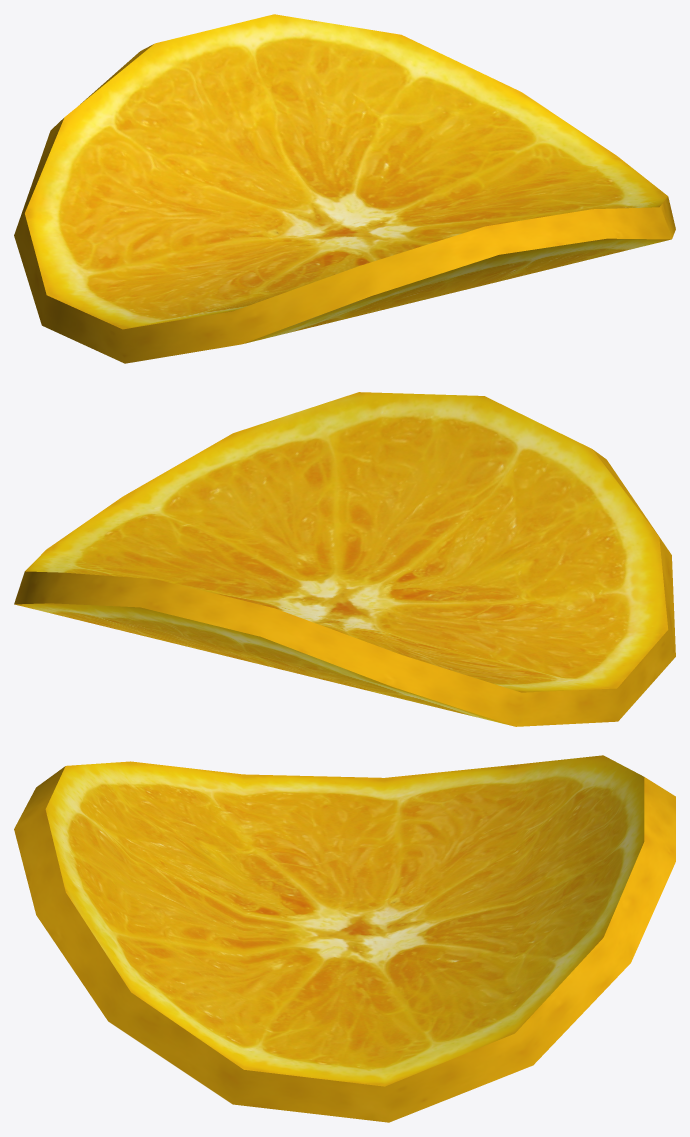
The model's file is LemonSliceBentB.fbx.
3 renders of one model, top to bottom at view 1: azimuth 30°, elevation 25°; view 2: azimuth 150°, elevation 25°; view 3: azimuth 270°, elevation 25°, orthographic. The views are drawn at different scales.
Parts seen in each view (by area): view 1: Default_Layer; view 2: Default_Layer; view 3: Default_Layer.
Boxes of the visible parts, left/top/right/bottom form: Default_Layer: left=14, top=14, right=675, bottom=363; Default_Layer: left=14, top=392, right=675, bottom=726; Default_Layer: left=14, top=755, right=675, bottom=1122.
Size of the model in its own units: 16.52 by 3.89 by 14.82.
